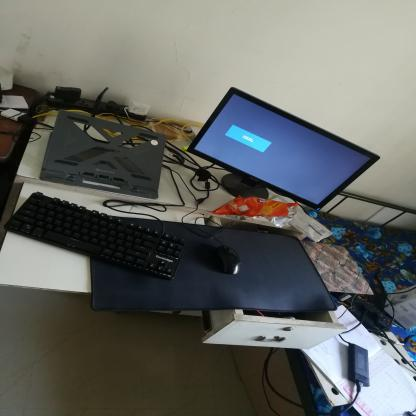hot_and_sweet: (210, 188, 298, 236)
